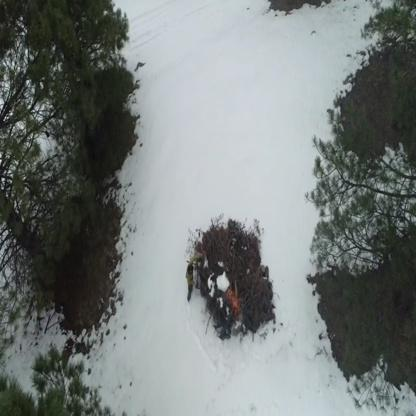Fire: (228, 290, 241, 314)
